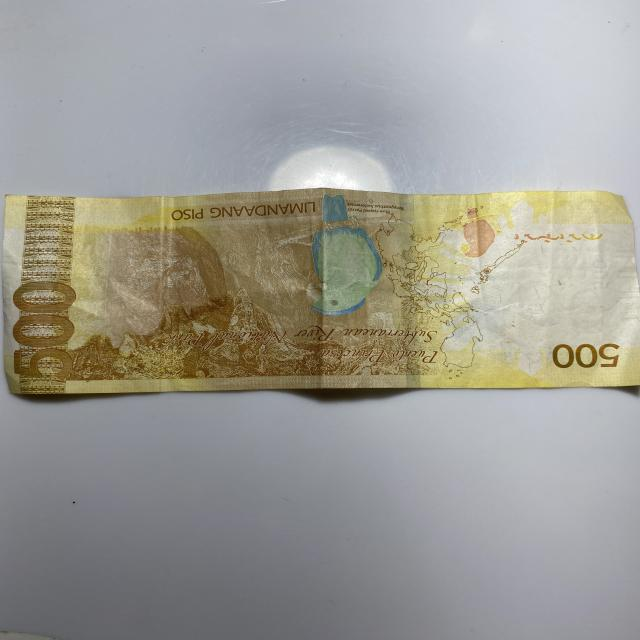500_big_parrot: (307, 192, 383, 320)
500_parrot_watermark: (446, 205, 501, 256)
value_watermark: (587, 256, 613, 288)
